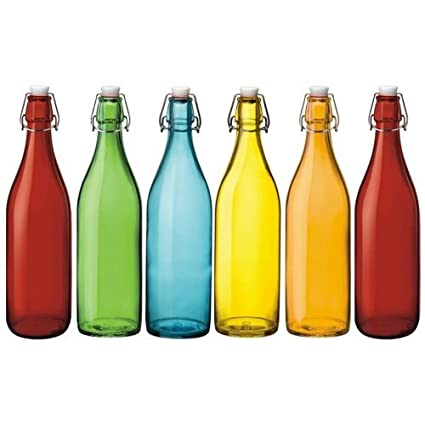glass_bottleww: (192, 36, 286, 381), (262, 43, 354, 384), (131, 33, 213, 408), (338, 36, 425, 376), (67, 26, 147, 386), (6, 39, 79, 379)
